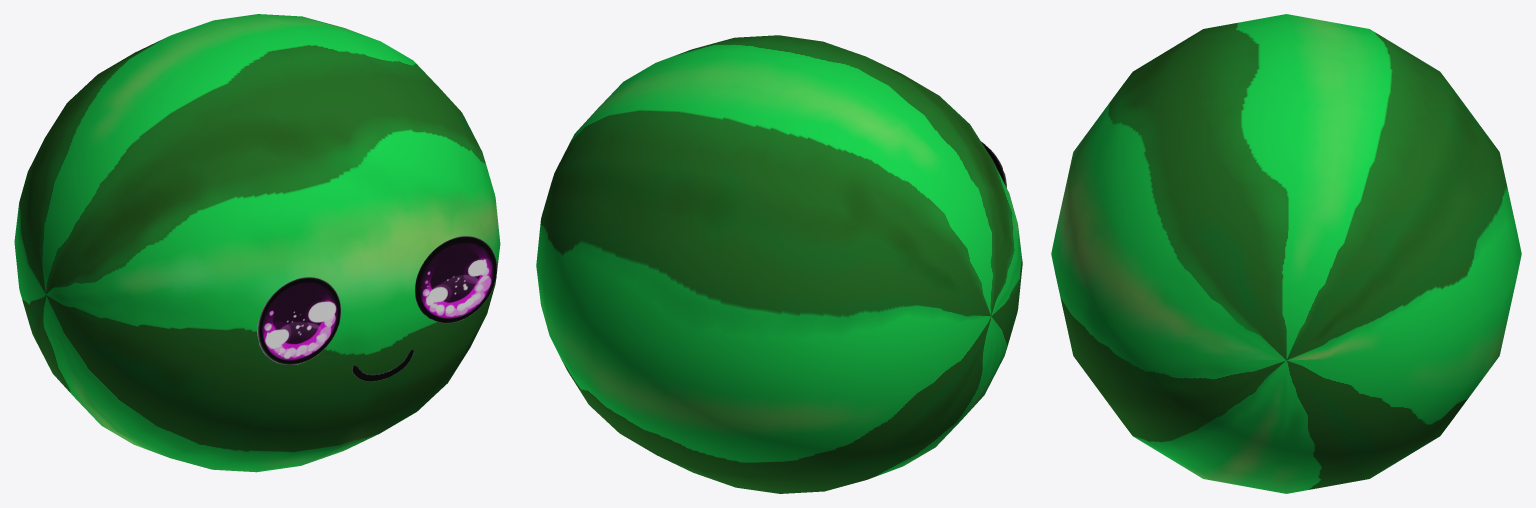
Rendered from Melon_000000.obj.
3 renders of one model, left to right at view 1: azimuth 30°, elevation 25°; view 2: azimuth 150°, elevation 25°; view 3: azimuth 270°, elevation 25°, orthographic. The views are drawn at different scales.
Visible parts, largest first — view 1: Melon_low.001_Sphere.003, Plane; view 2: Melon_low.001_Sphere.003; view 3: Melon_low.001_Sphere.003.
Part boxes in pixels (left/top/right/bottom): Melon_low.001_Sphere.003: left=14, top=14, right=500, bottom=472; Plane: left=257, top=236, right=497, bottom=381; Melon_low.001_Sphere.003: left=536, top=35, right=1022, bottom=493; Melon_low.001_Sphere.003: left=1051, top=14, right=1521, bottom=493.
Size of the model in its own units: 2.14 by 2 by 2.
